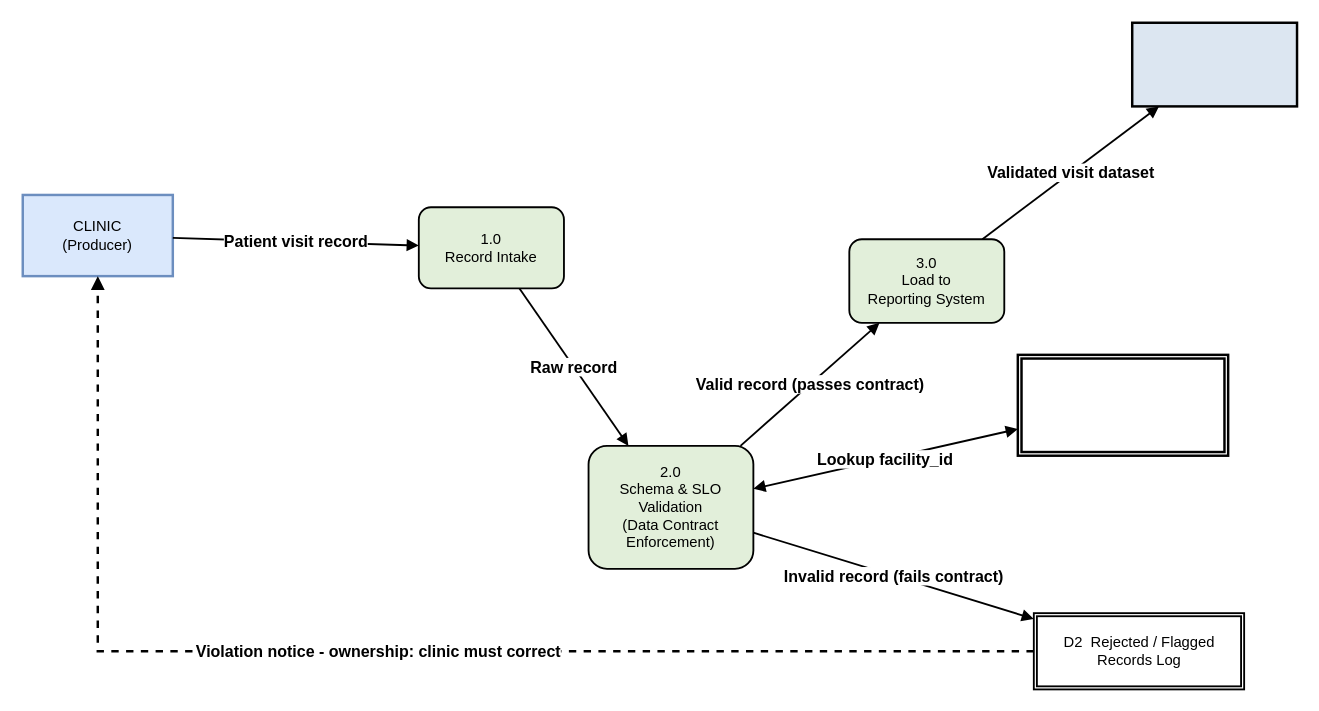
The diagram is 1319 pixels wide and 711 high, and some of its shapes have lost their labels. Each missing label, with the centre of its shape:
"D1 Facilities Reference Data (GRID3 - Oyo State)" goes at point (1122, 404).
"STATE HEALTH REPORTING SYSTEM (Consumer)" goes at point (1214, 64).
